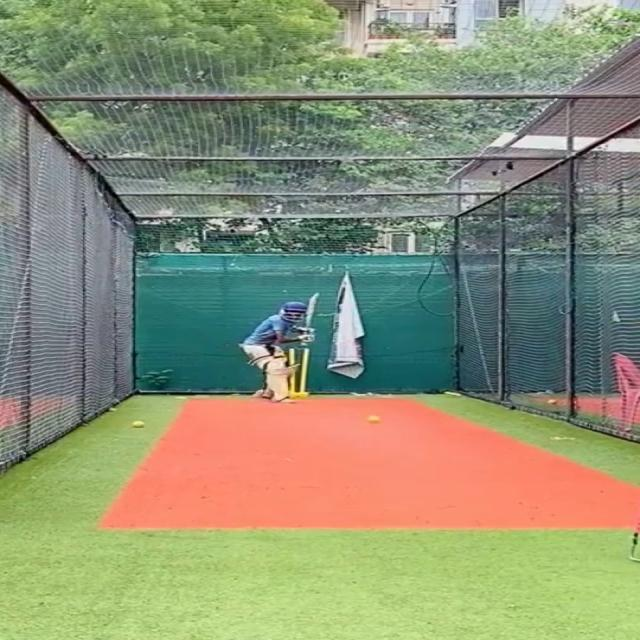ball: (367, 414, 383, 423), (546, 398, 560, 406), (133, 420, 147, 427)
stump: (287, 347, 315, 396)
